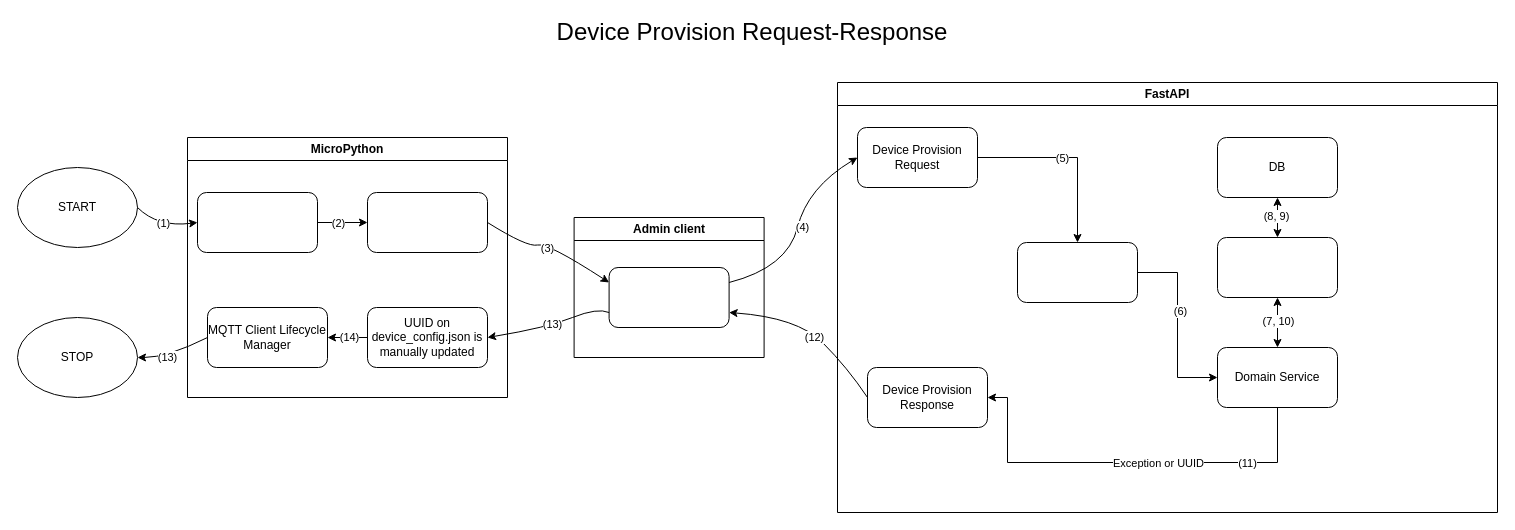
This 1515x530 diagram has some shape labels left out. Each missing label, with the centre of its shape:
Admin UI: the point at 668,297
Auth Service: the point at 1077,272
DB Client Lifecycle Manager: the point at 1277,267
device uuid is left empty, only ESP32 pins are updated: the point at 427,222
manual device_config .json update: the point at 257,222
